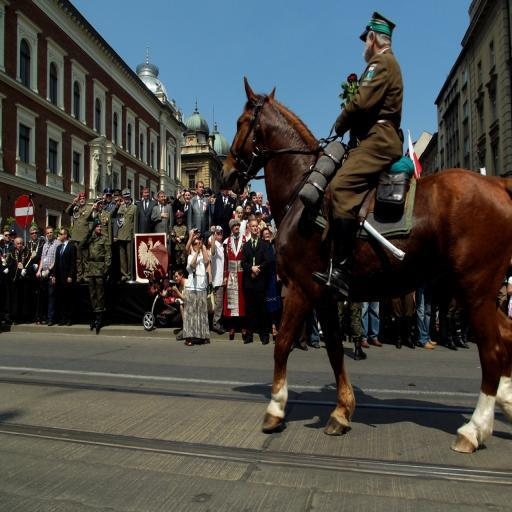horse: (222, 75, 512, 455)
